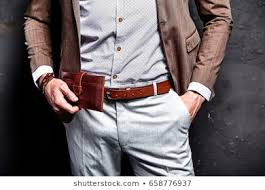F_belt: (71, 78, 180, 105)
